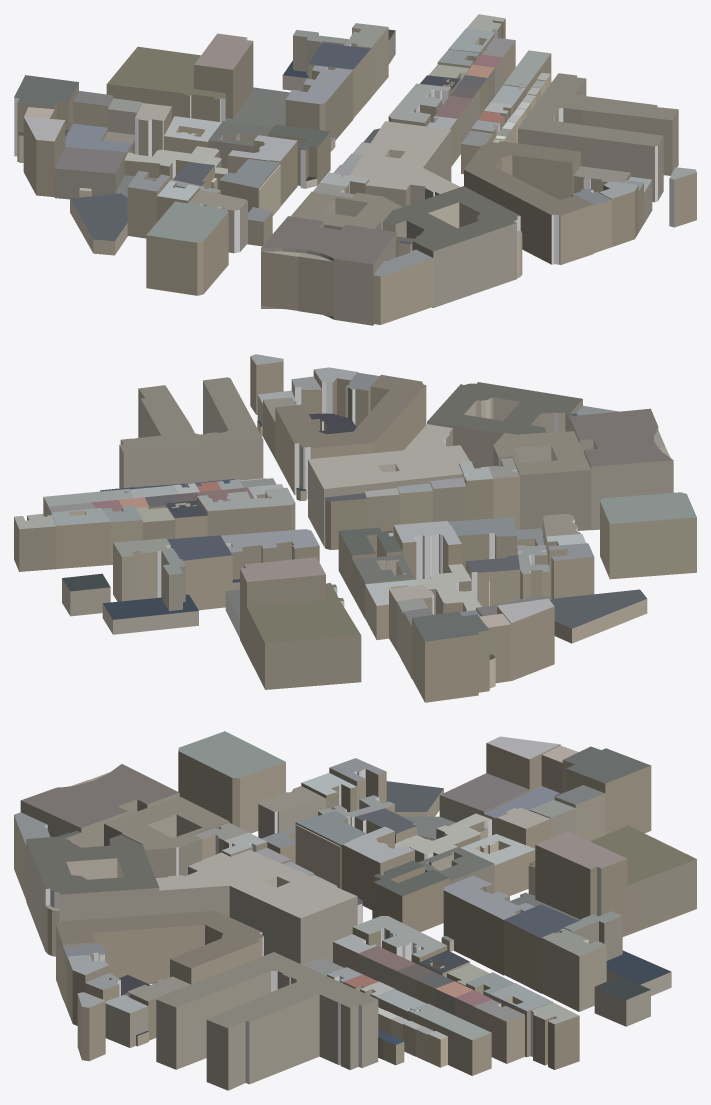
3 views of the same model, one above another, from view 1: azimuth 30°, elevation 25°; view 2: azimuth 150°, elevation 25°; view 3: azimuth 270°, elevation 25° (orthographic). The views are drawn at different scales.
Visible parts, largest first — view 1: tuile; view 2: tuile; view 3: tuile.
Part boxes in pixels (x1,y1,x2,y2): tuile: [14, 14, 696, 325]; tuile: [14, 354, 696, 702]; tuile: [14, 731, 696, 1090].
Size of the model in its own units: 286 by 35.63 by 283.
